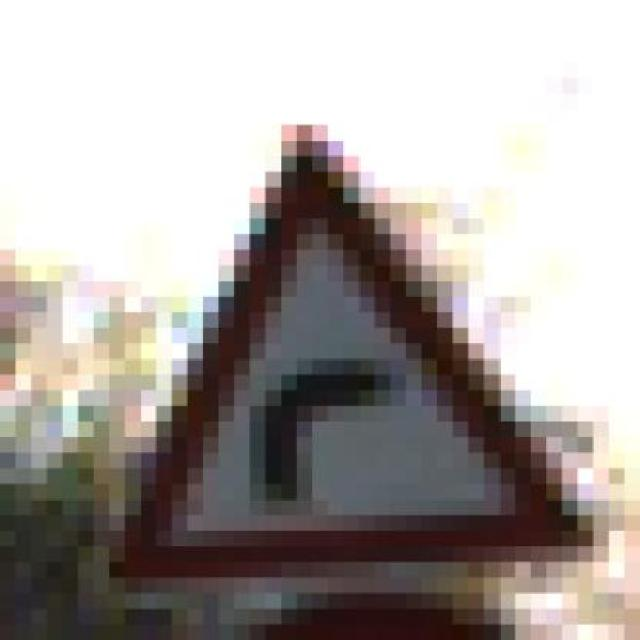Dangerous Rright Curve Ahead: (46, 108, 625, 578)
